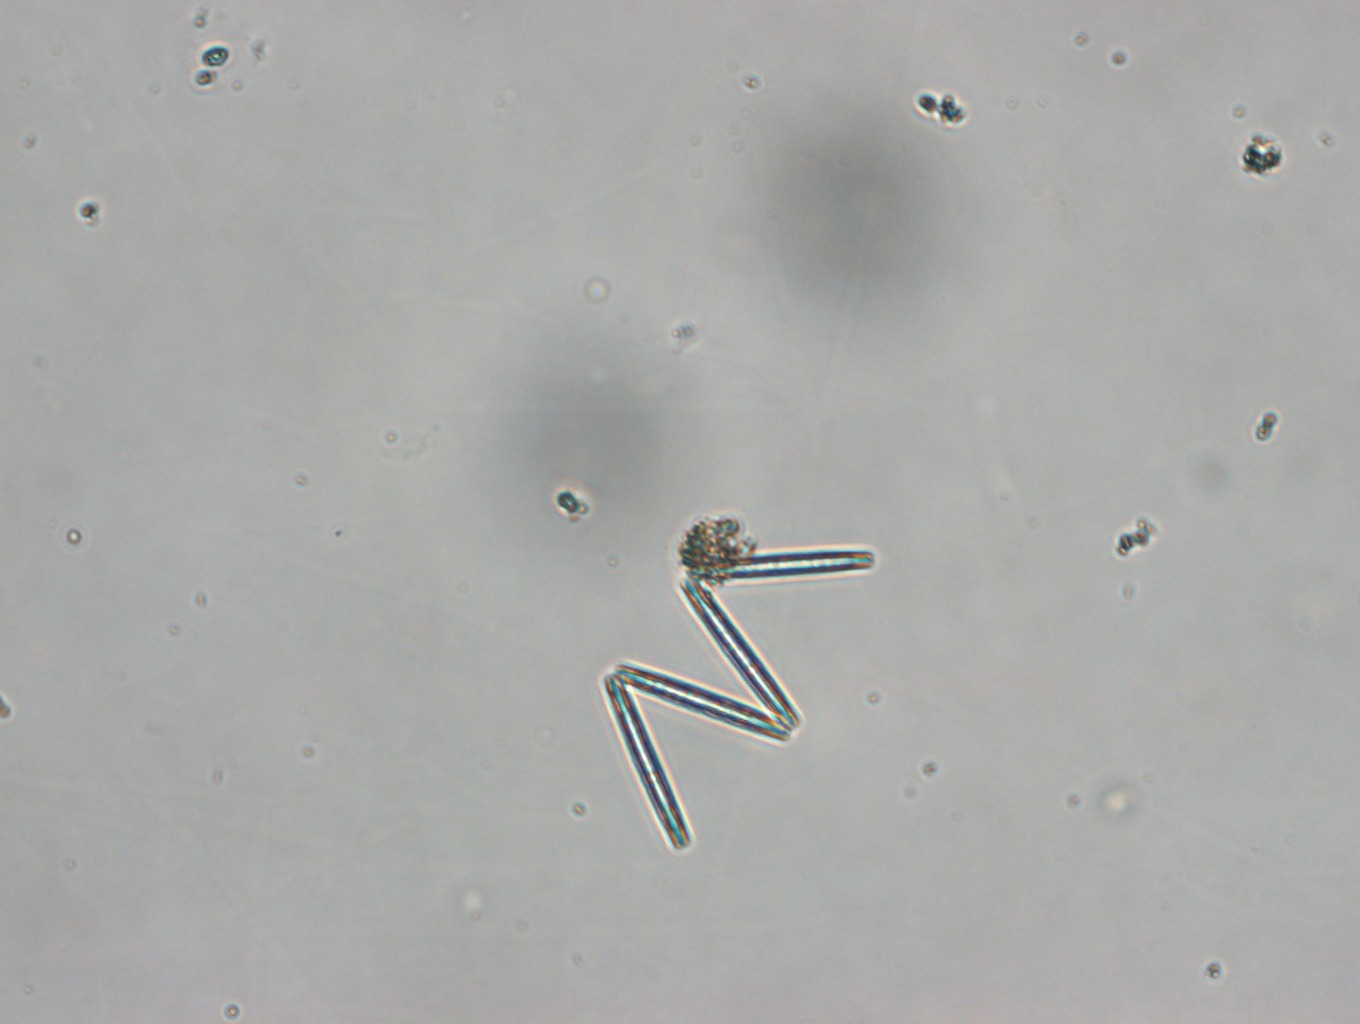thalassionema nitzschioides: (601, 547, 875, 850)
